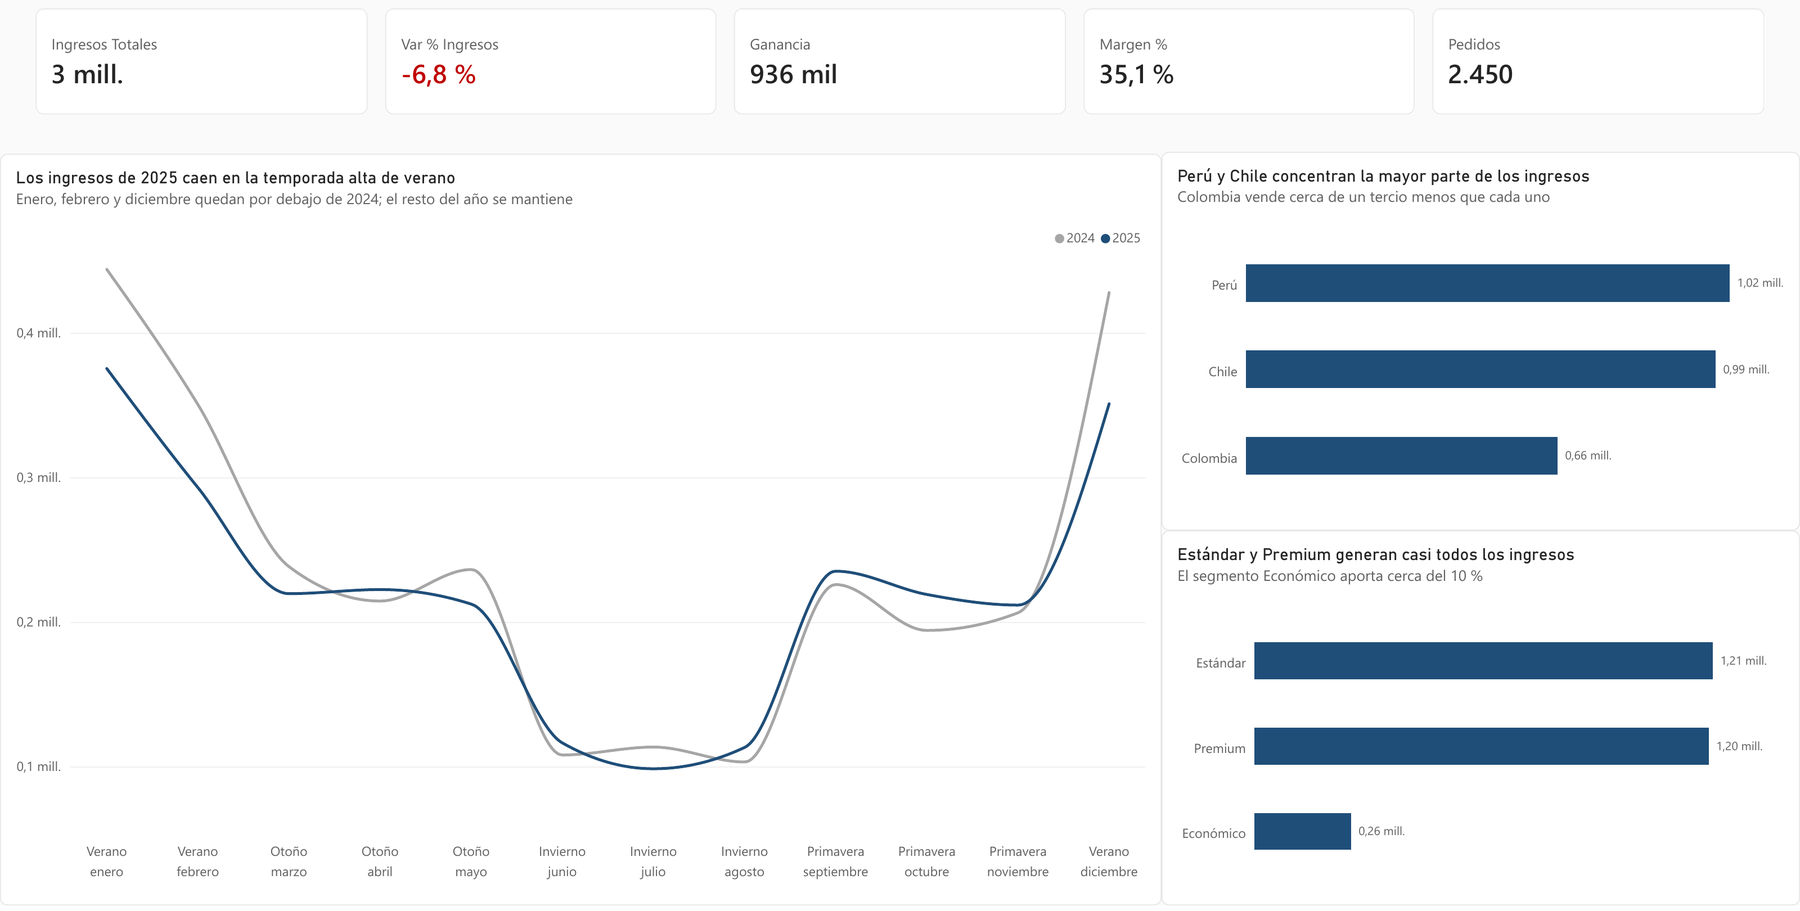

The page's visual inventory and layout, read from the dashboard file:
{"tool":"powerbi","page":{"name":"Overview","canvas":[1920,1080],"ordinal":0},"visuals":[{"type":"slicer","fields":{"Values":["Ventas.Año"]},"box":[780.5,0,1139.2,90.1],"z":0},{"type":"cardVisual","fields":{"Data":["Ventas.Ingresos Totales"]},"box":[38.3,123.1,353.6,113],"z":1000},{"type":"cardVisual","fields":{"Data":["Ventas.Ganancia"]},"box":[783.3,123.1,353.6,113],"z":2000},{"type":"cardVisual","fields":{"Data":["Ventas.Margen %"]},"box":[1155.8,123.1,353.6,113],"z":3000},{"type":"cardVisual","fields":{"Data":["Ventas.Pedidos Tarjeta"]},"box":[1528.3,123.1,353.6,113],"z":4000},{"type":"cardVisual","fields":{"Data":["Ventas.Var % Ingresos"]},"box":[410.8,123.1,353.6,113],"z":5000},{"type":"lineChart","title":"Los ingresos de 2025 caen en la temporada alta de verano","fields":{"Category":["Ventas.Nombre del mes","Ventas.Estación"],"Series":["Ventas.Año"],"Y":["Ventas.Ingresos Totales"]},"box":[0,277.9,1238.6,801.6],"z":6000},{"type":"clusteredBarChart","title":"Perú y Chile concentran la mayor parte de los ingresos","fields":{"Category":["Ventas.País"],"Y":["Ventas.Ingresos Totales"]},"box":[1238.6,276.3,681.1,403.2],"z":7000},{"type":"clusteredBarChart","title":"Estándar y Premium generan casi todos los ingresos","fields":{"Category":["Ventas.Segmento_Cliente"],"Y":["Ventas.Ingresos Totales"]},"box":[1238.6,679.5,681.1,400],"z":8000},{"type":"textbox","box":[0,0,748.9,58.5],"z":10000}]}

Visuals, with their boxes on the page's 1920x1080 design canvas (x1, y1, x2, y2). These are canvas units, not pixel positions in the 1800x911 screenshot, which may show the page scaled, cropped or inside an application window:
slicer - Ventas.Año: left=780, top=0, right=1920, bottom=90
cardVisual - Ventas.Ingresos Totales: left=38, top=123, right=392, bottom=236
cardVisual - Ventas.Ganancia: left=783, top=123, right=1137, bottom=236
cardVisual - Ventas.Margen %: left=1156, top=123, right=1509, bottom=236
cardVisual - Ventas.Pedidos Tarjeta: left=1528, top=123, right=1882, bottom=236
cardVisual - Ventas.Var % Ingresos: left=411, top=123, right=764, bottom=236
"Los ingresos de 2025 caen en la temporada alta de verano" lineChart: left=0, top=278, right=1239, bottom=1080
"Perú y Chile concentran la mayor parte de los ingresos" clusteredBarChart: left=1239, top=276, right=1920, bottom=680
"Estándar y Premium generan casi todos los ingresos" clusteredBarChart: left=1239, top=680, right=1920, bottom=1080
textbox: left=0, top=0, right=749, bottom=58
